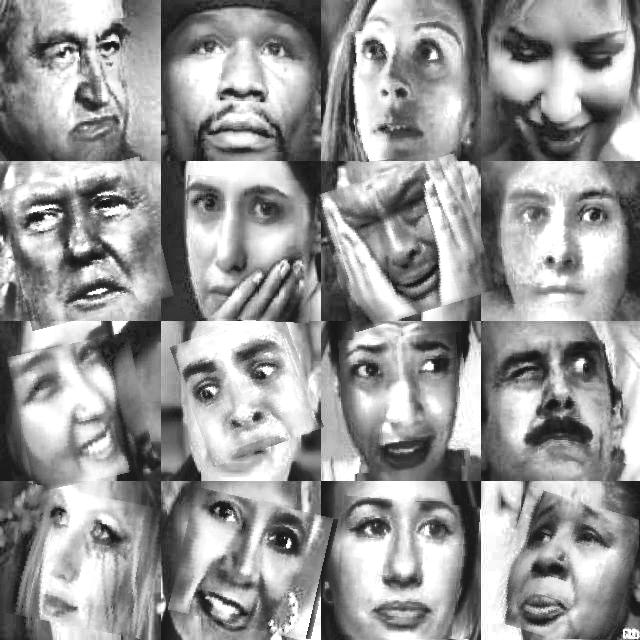angry: (24, 19, 142, 152)
fear: (179, 315, 315, 459), (348, 23, 458, 160)
happy: (14, 337, 150, 487), (499, 17, 630, 157), (496, 335, 640, 462)
neutral: (5, 164, 166, 324), (174, 495, 332, 635), (335, 498, 477, 640), (493, 168, 635, 304), (182, 177, 315, 321), (178, 15, 308, 152)
sad: (323, 162, 489, 323), (7, 489, 162, 633), (497, 493, 637, 640), (341, 334, 469, 472)
